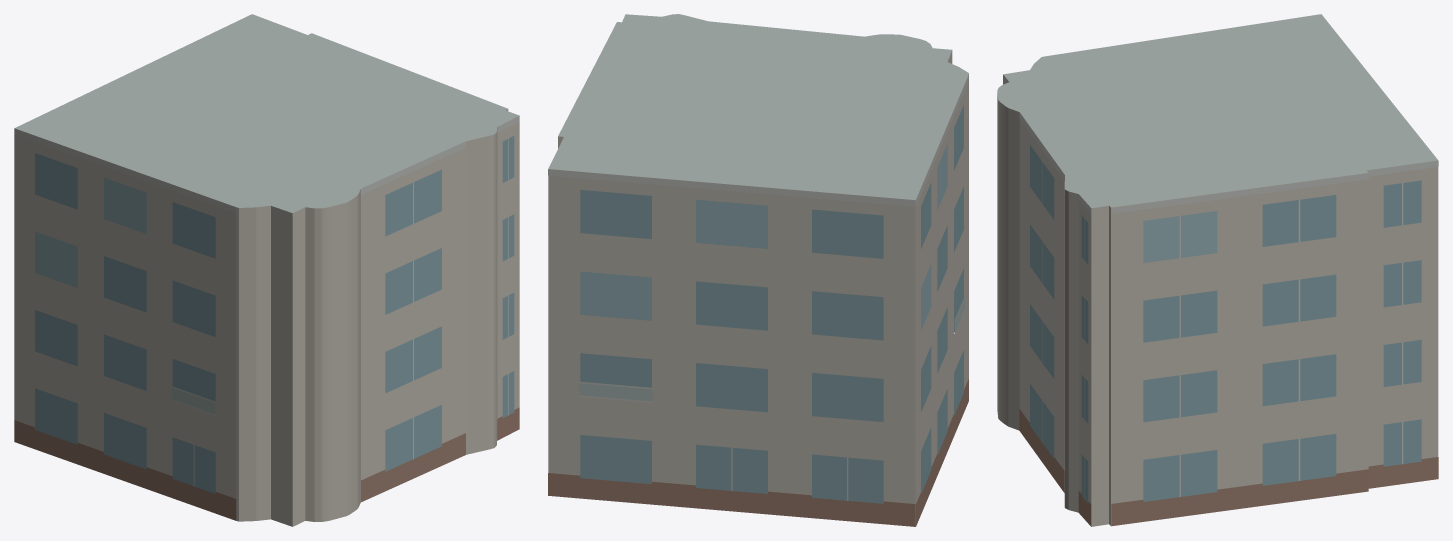
Rendered from survey-upis-32672444.glb.
3 views of the same model, side by side, from view 1: azimuth 30°, elevation 25°; view 2: azimuth 150°, elevation 25°; view 3: azimuth 270°, elevation 25° (orthographic). The views are drawn at different scales.
Parts seen in each view (by area): view 1: survey-upis-32672444.tmp; view 2: survey-upis-32672444.tmp; view 3: survey-upis-32672444.tmp.
Boxes of the visible parts, box(x1,y1,x2,y2) form: survey-upis-32672444.tmp: box(14, 14, 519, 526); survey-upis-32672444.tmp: box(548, 14, 968, 526); survey-upis-32672444.tmp: box(997, 14, 1438, 526).
Size of the model in its own units: 15.96 by 12.2 by 15.32.
